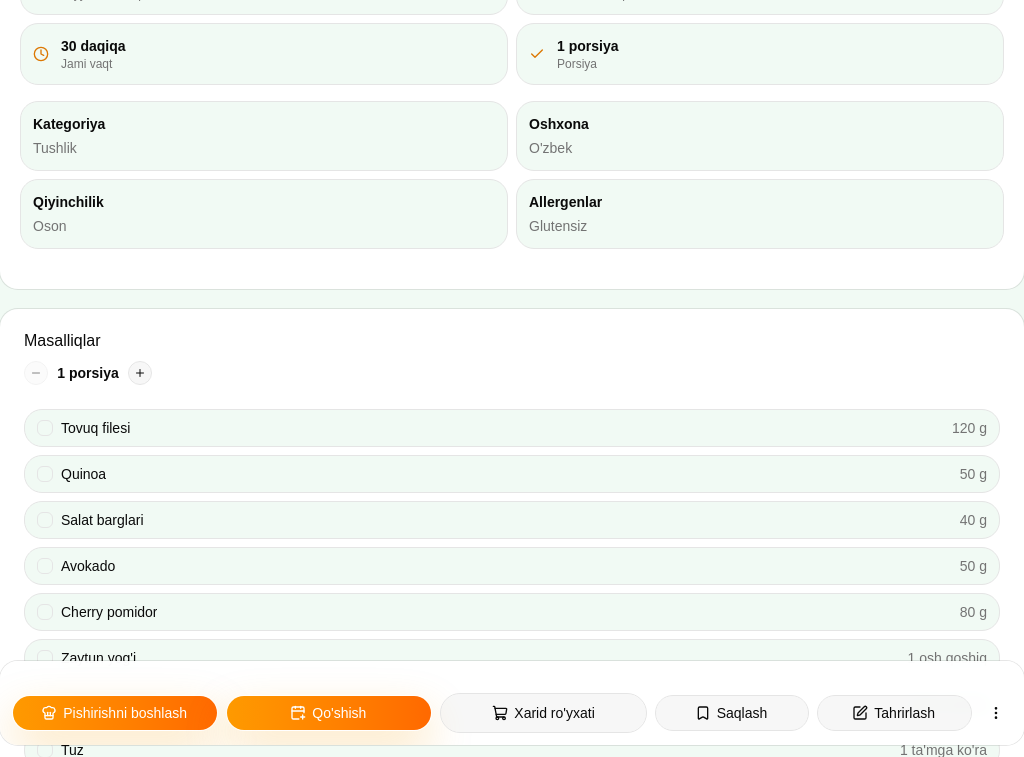
it: NutritionRecipeDetailPage › renders the API recipe detail and scales ingredients by servings
The image size is (1024, 757).
(page scrolled)
Expected: the text "Tushlik" is shown, top-left (33, 140), bottom-right (77, 156)
Expected: the text "O'zbek" is shown, top-left (529, 140), bottom-right (572, 156)
Step 1. Click the button named "Porsiyani oshirish" → (140, 373), box top-left (128, 361), bottom-right (152, 385)
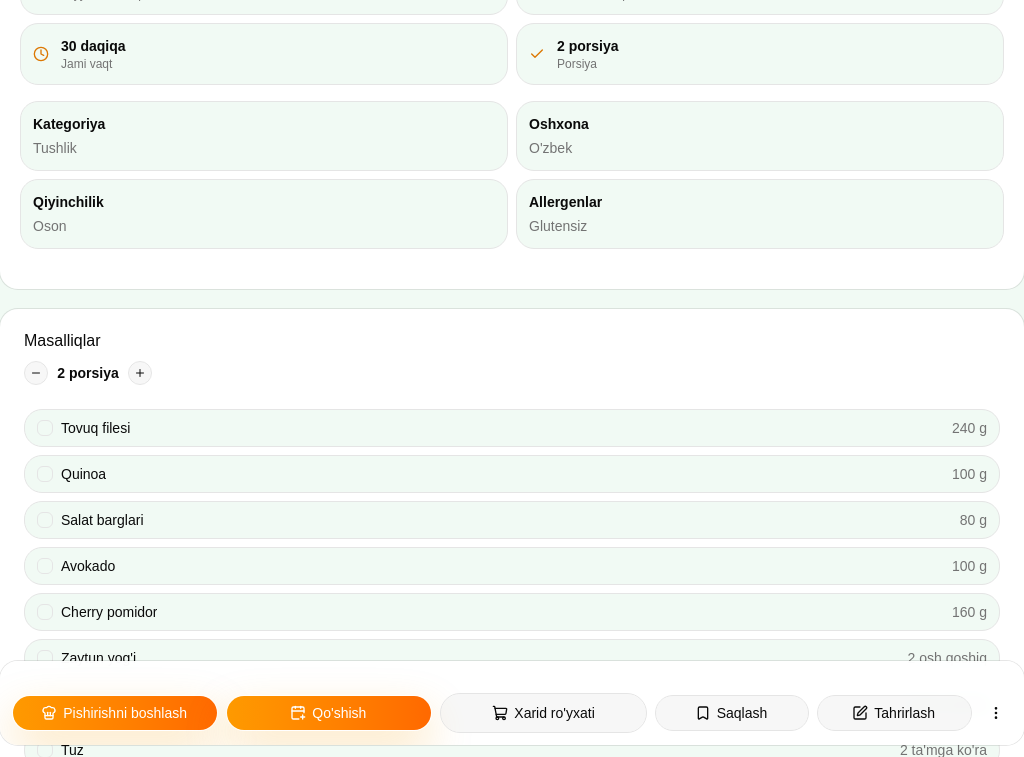
Expected: the text "240 g" is shown, top-left (952, 418), bottom-right (987, 438)
